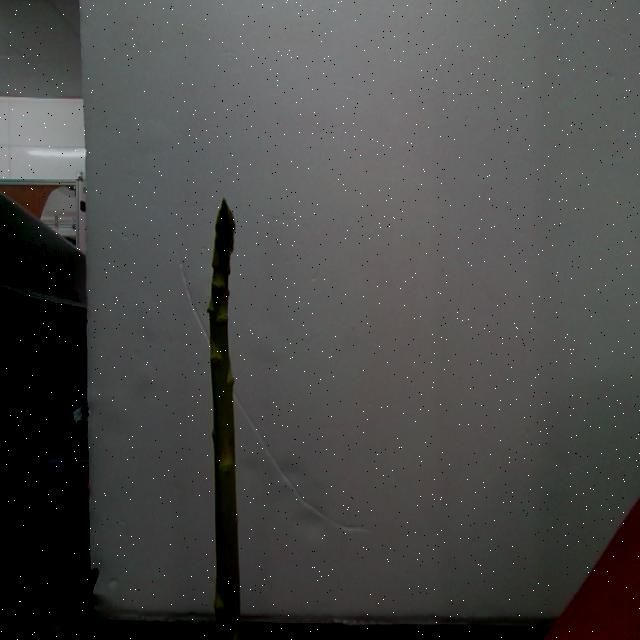aspargus: (209, 201, 242, 640)
